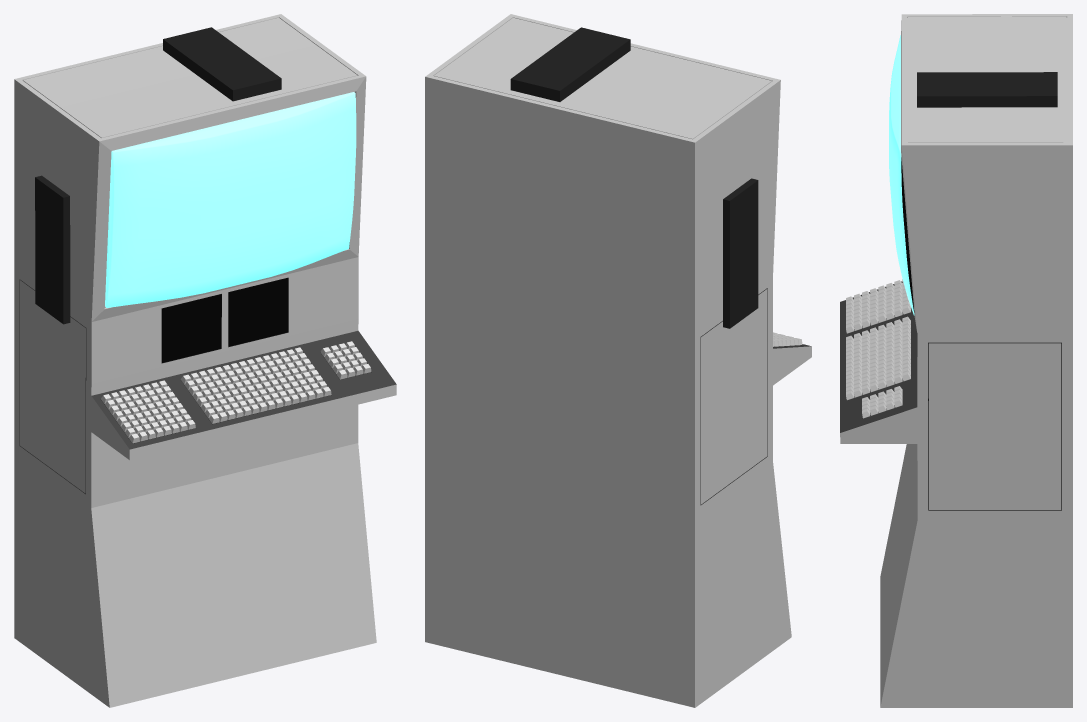
The model's file is Console00a_live.glb.
3 views of the same model, side by side, from view 1: azimuth 30°, elevation 25°; view 2: azimuth 150°, elevation 25°; view 3: azimuth 270°, elevation 25° (orthographic).
Visible parts, largest first — view 1: Console_00a_live-col; view 2: Console_00a_live-col; view 3: Console_00a_live-col.
Part boxes in pixels (x1,y1,x2,y2): Console_00a_live-col: (14, 14, 396, 707); Console_00a_live-col: (425, 14, 811, 707); Console_00a_live-col: (840, 14, 1072, 707).
Size of the model in its own units: 1.03 by 2.04 by 0.7494.
